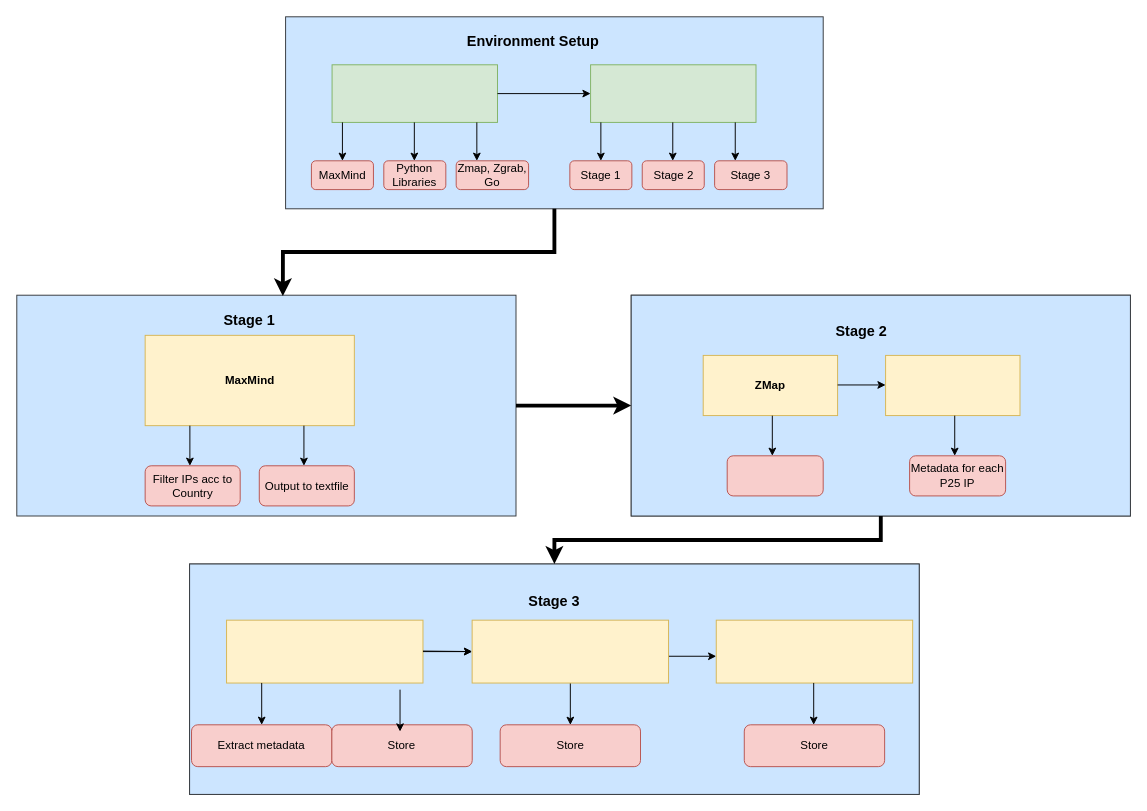
Some shapes in this 1147 by 811 pixel diagram are drawn without their labels. The centre of each missing label's shape, as x and y in pixels:
Find Collisions: (570,651)
Graph Collisions: (814,651)
Installing Dependencies: (414,93)
Port 25 listners: (774,475)
Process Data: (324,651)
Script that runs all: (673,93)
ZGrab: (952,385)
